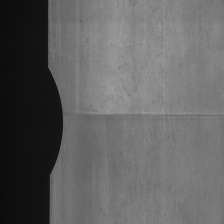welding_line: (60, 105, 224, 125)
